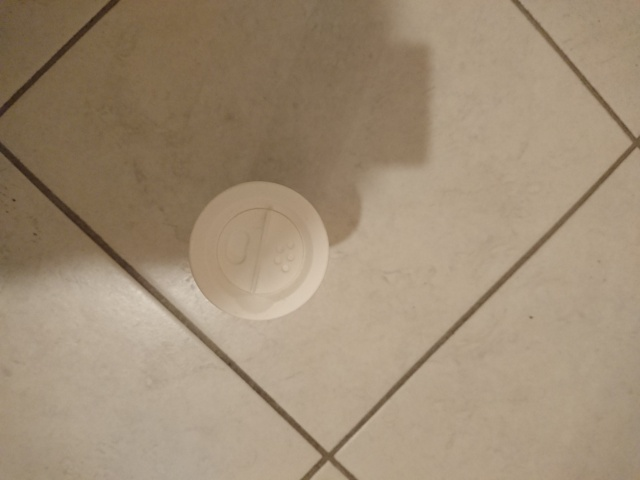Solana Pag Fine Sea Salt 250g: (185, 177, 332, 323)
